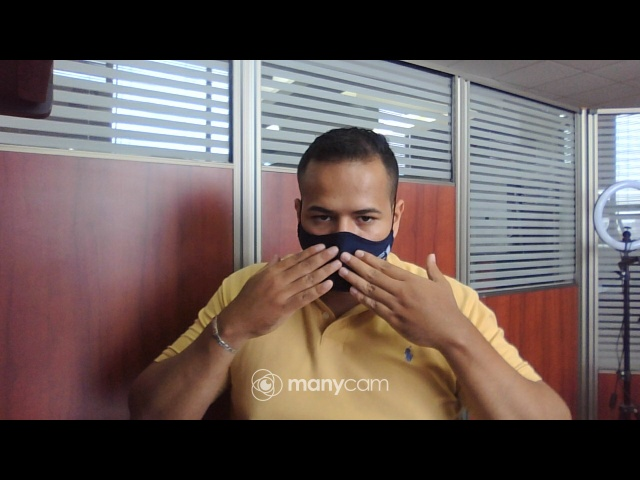Thanks: (224, 240, 469, 349)
